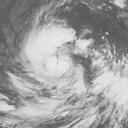cyclone: (20, 21, 81, 82)
